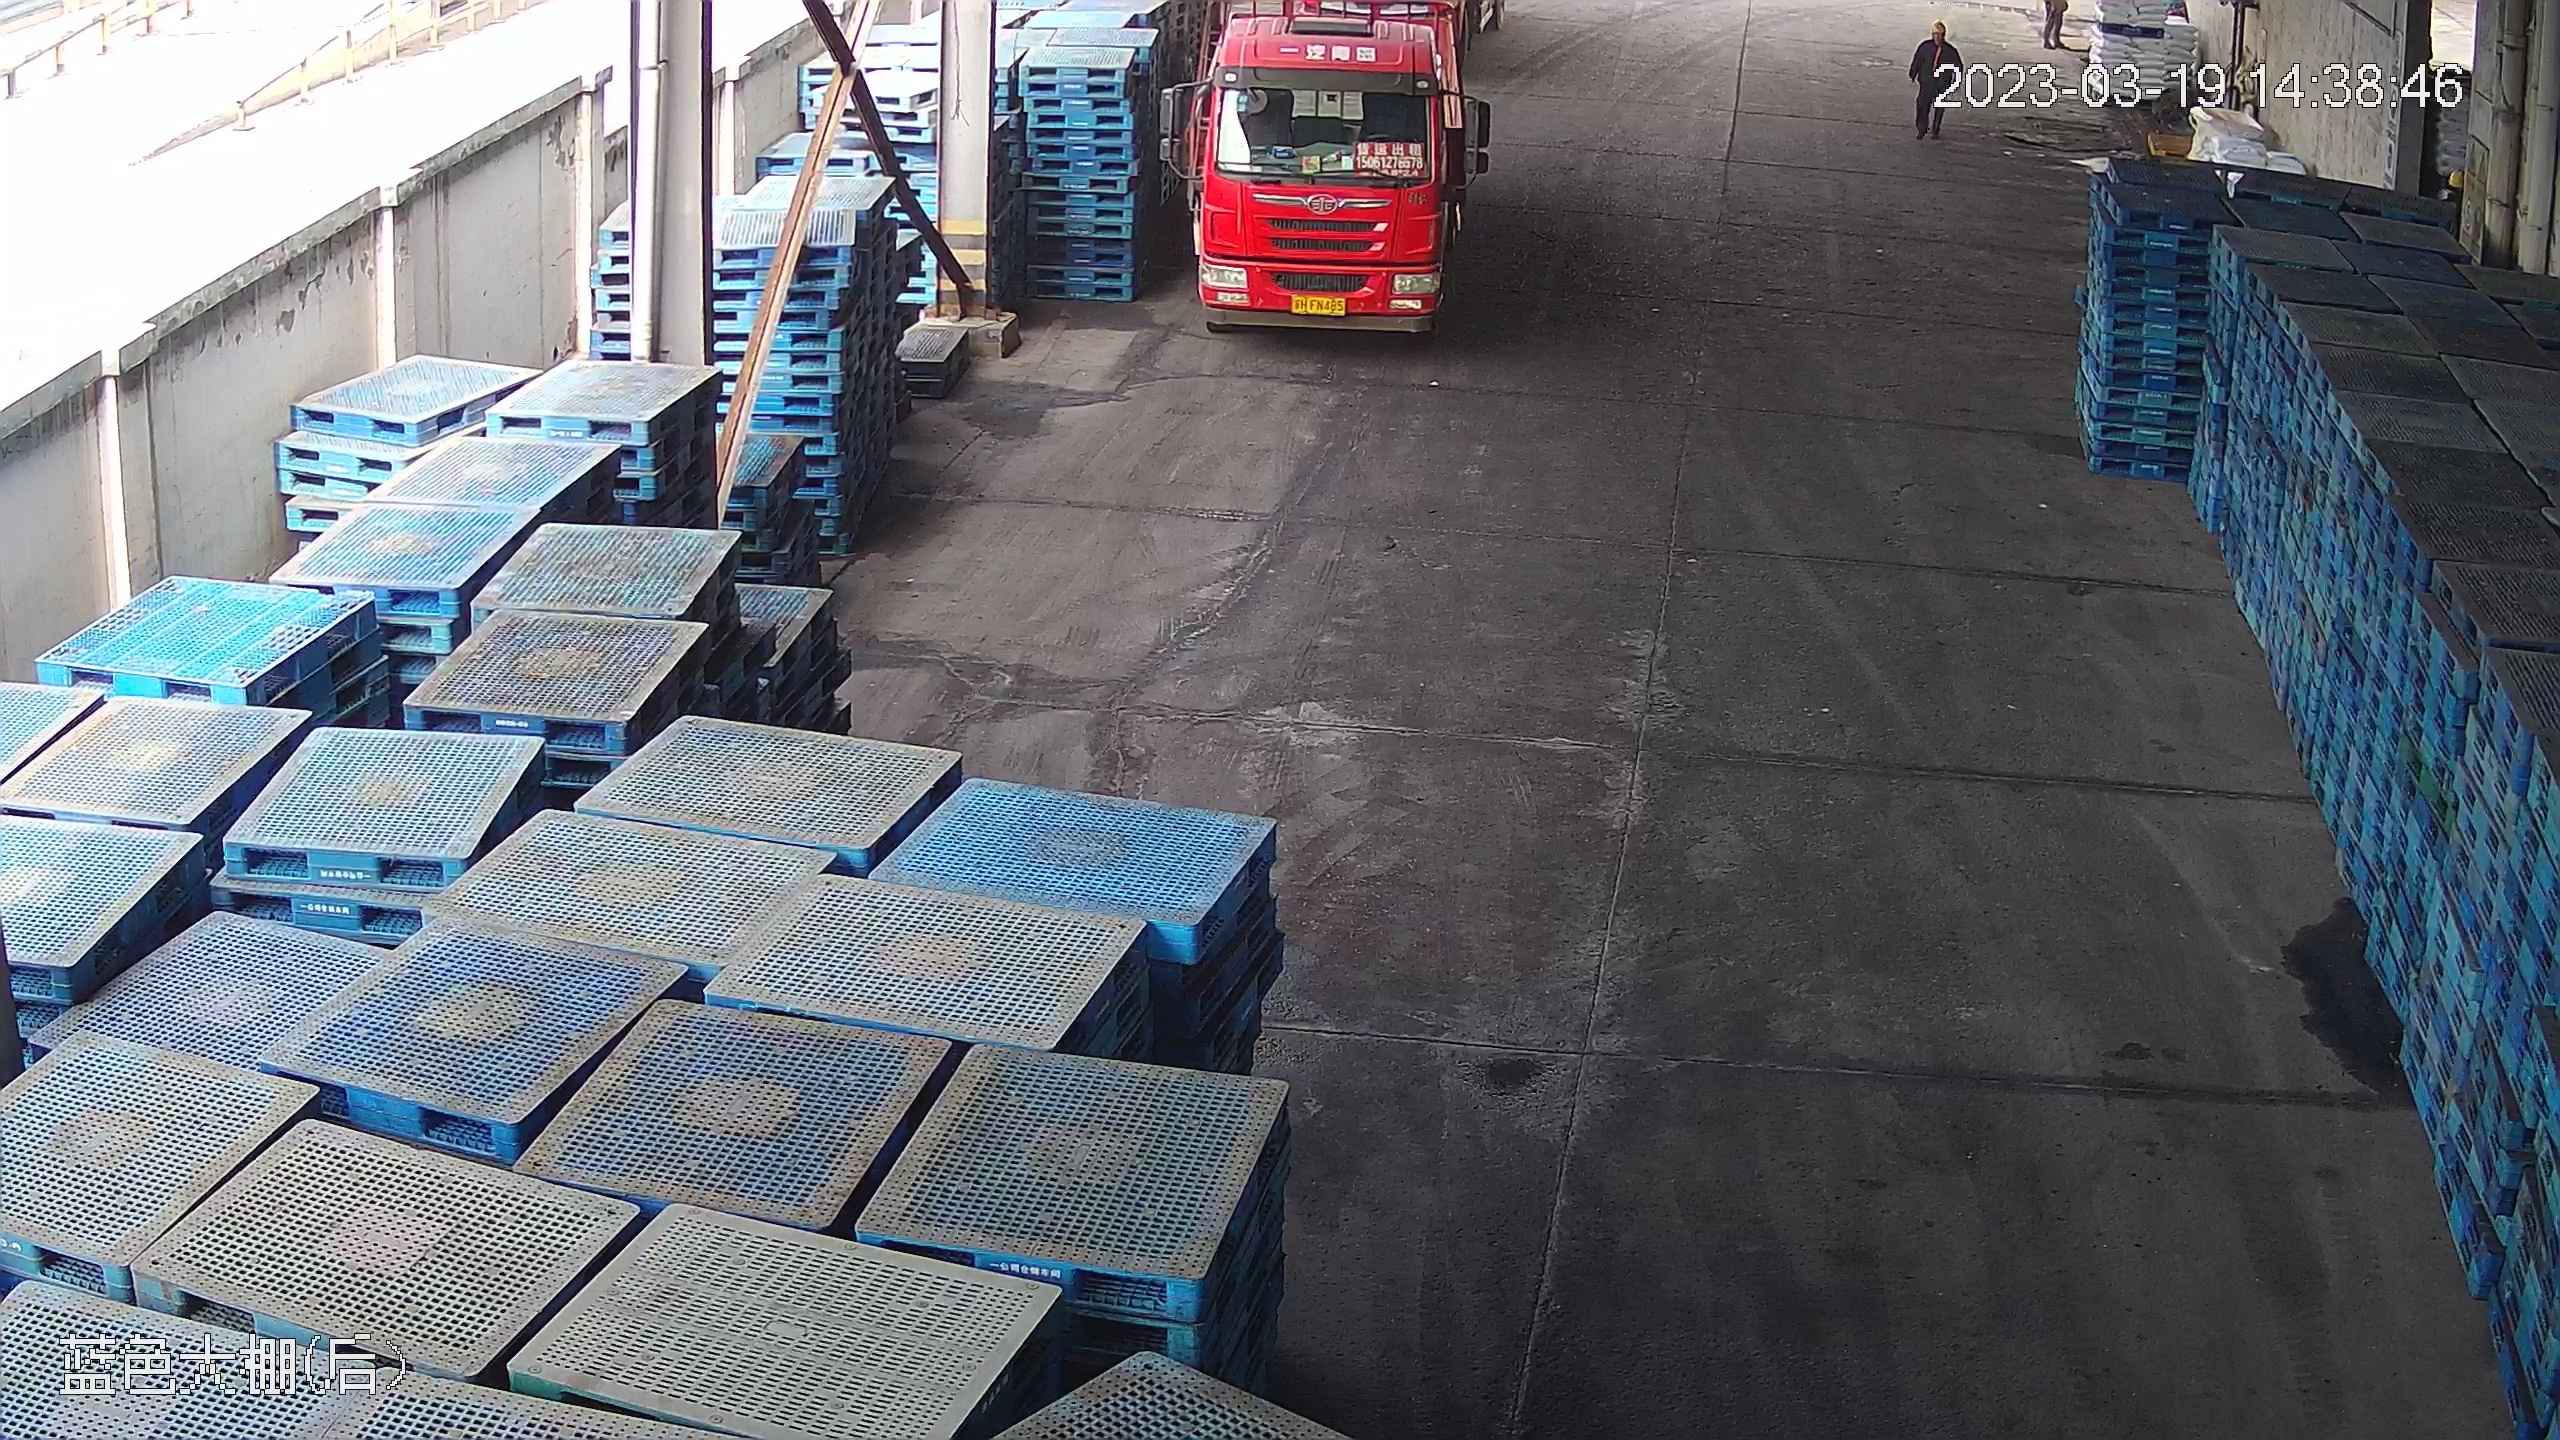head: (1917, 16, 1958, 58)
helmet: (1927, 18, 1952, 35)
people: (1905, 14, 1963, 143)
truck: (1166, 0, 1488, 332)
